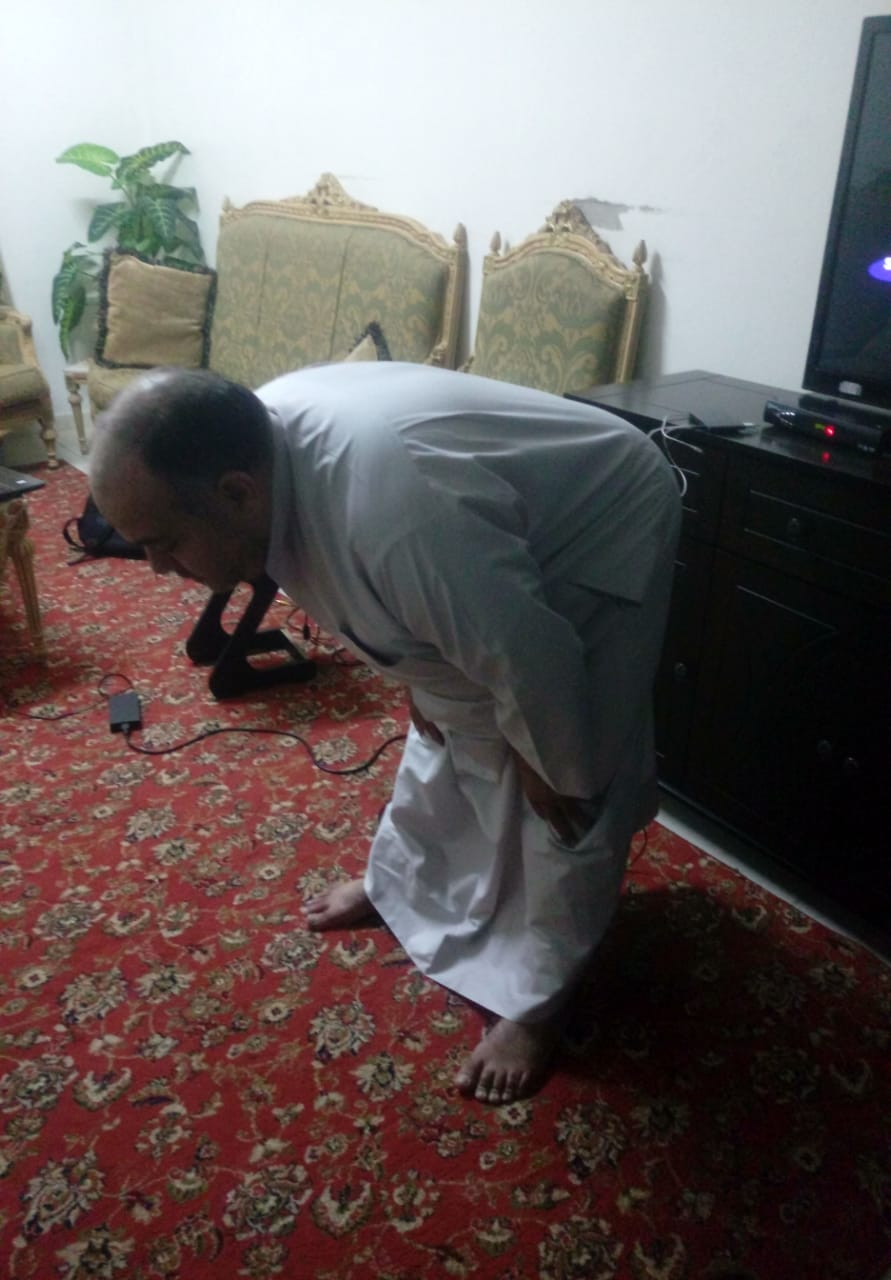ruku: (42, 326, 755, 1135)
